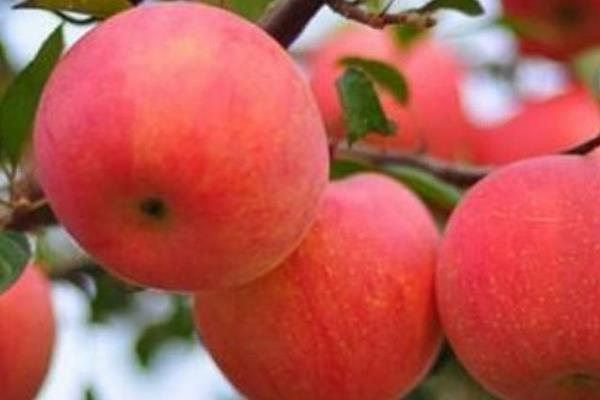apple: (31, 3, 339, 290), (190, 175, 444, 399), (435, 152, 600, 400)
